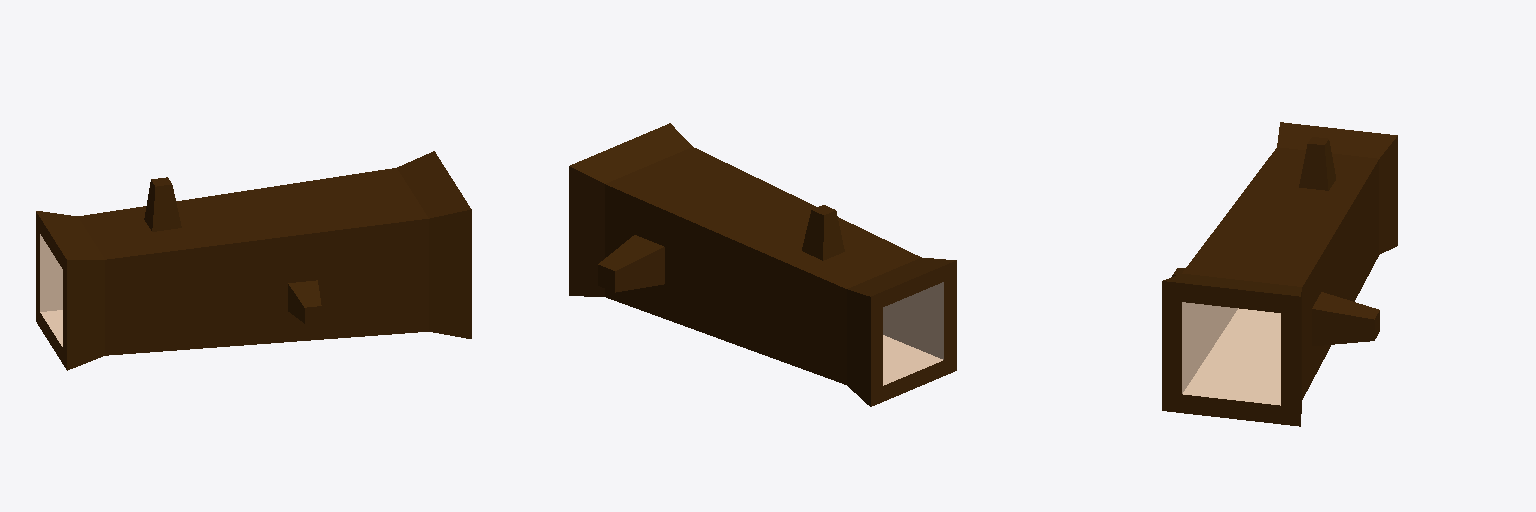
The model's file is obstacle.obj.
The picture shows the model from 3 angles: view 1: azimuth 30°, elevation 25°; view 2: azimuth 150°, elevation 25°; view 3: azimuth 270°, elevation 25°; orthographic projection.
Visible parts, largest first — view 1: mergedBlocks; view 2: mergedBlocks; view 3: mergedBlocks.
Boxes of the visible parts, x1=… form: mergedBlocks: x1=36, y1=151, x2=471, y2=370; mergedBlocks: x1=569, y1=123, x2=956, y2=406; mergedBlocks: x1=1162, y1=122, x2=1397, y2=426.
Size of the model in its own units: 0.7864 by 0.3125 by 0.4253.